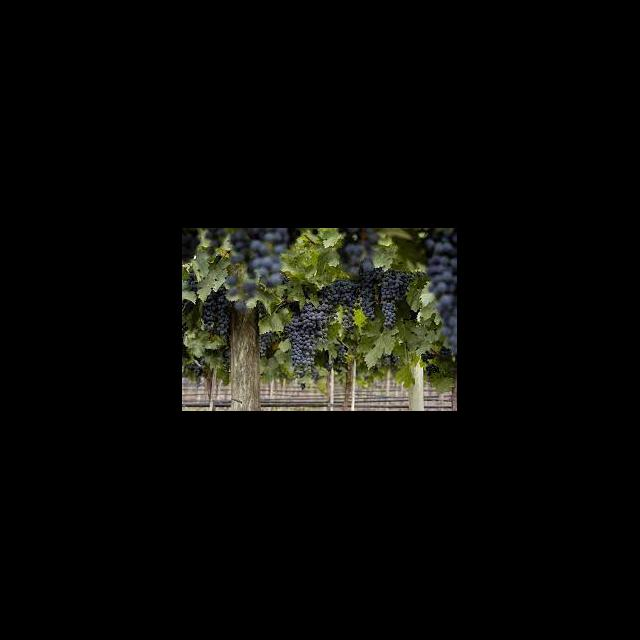grape: (424, 230, 456, 356)
